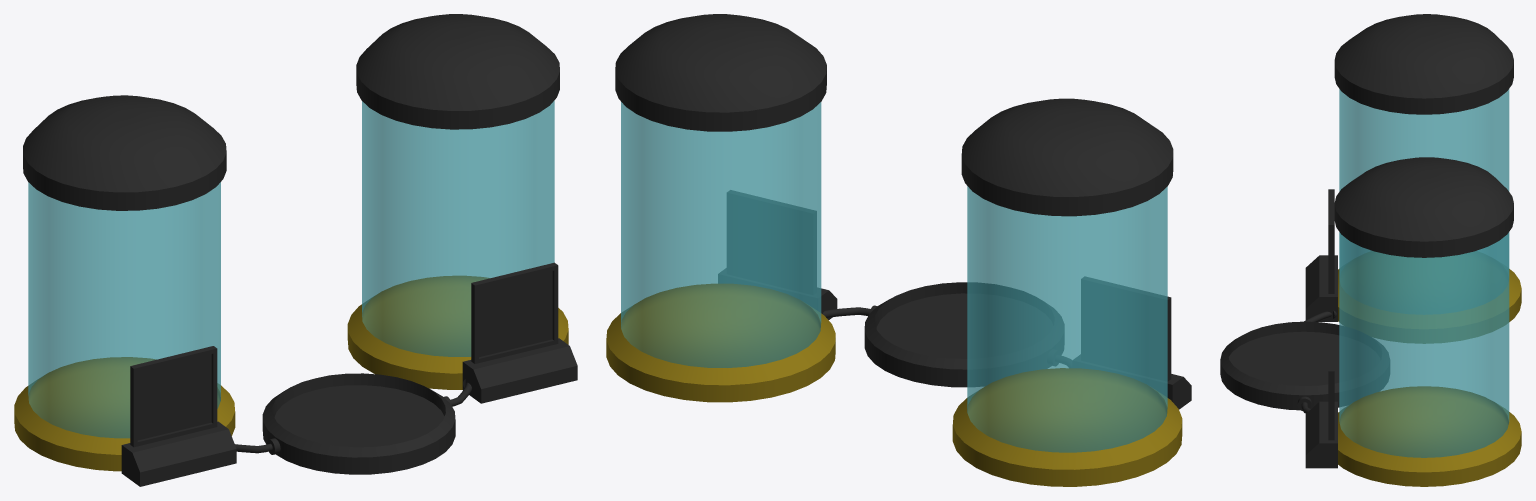
Rendered from MergeMachine.fbx.
3 views of the same model, side by side, from view 1: azimuth 30°, elevation 25°; view 2: azimuth 150°, elevation 25°; view 3: azimuth 270°, elevation 25° (orthographic). The views are drawn at different scales.
Parts seen in each view (by area): view 1: MergeMachine; view 2: MergeMachine; view 3: MergeMachine.
Part boxes in pixels (<box>): MergeMachine: <box>14,14,577,486</box>; MergeMachine: <box>606,14,1191,486</box>; MergeMachine: <box>1220,14,1521,486</box>.
Bounding box in the file's own units: 6.28 × 3.54 × 3.55.
